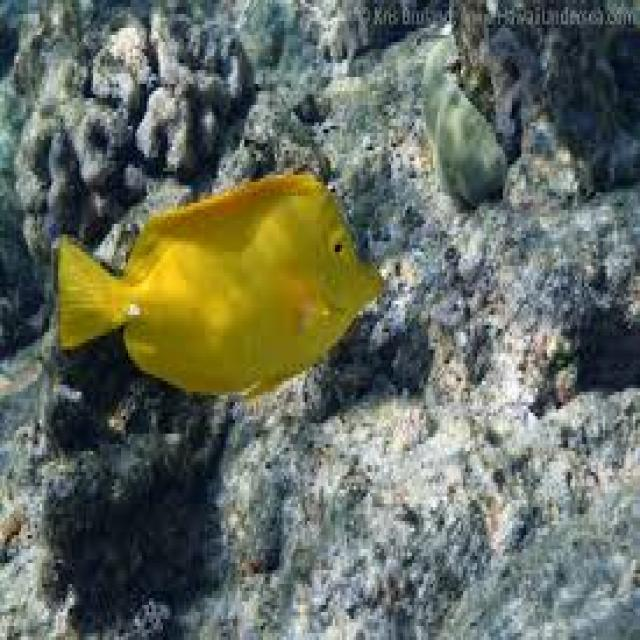YellowTang: (51, 157, 392, 421)
